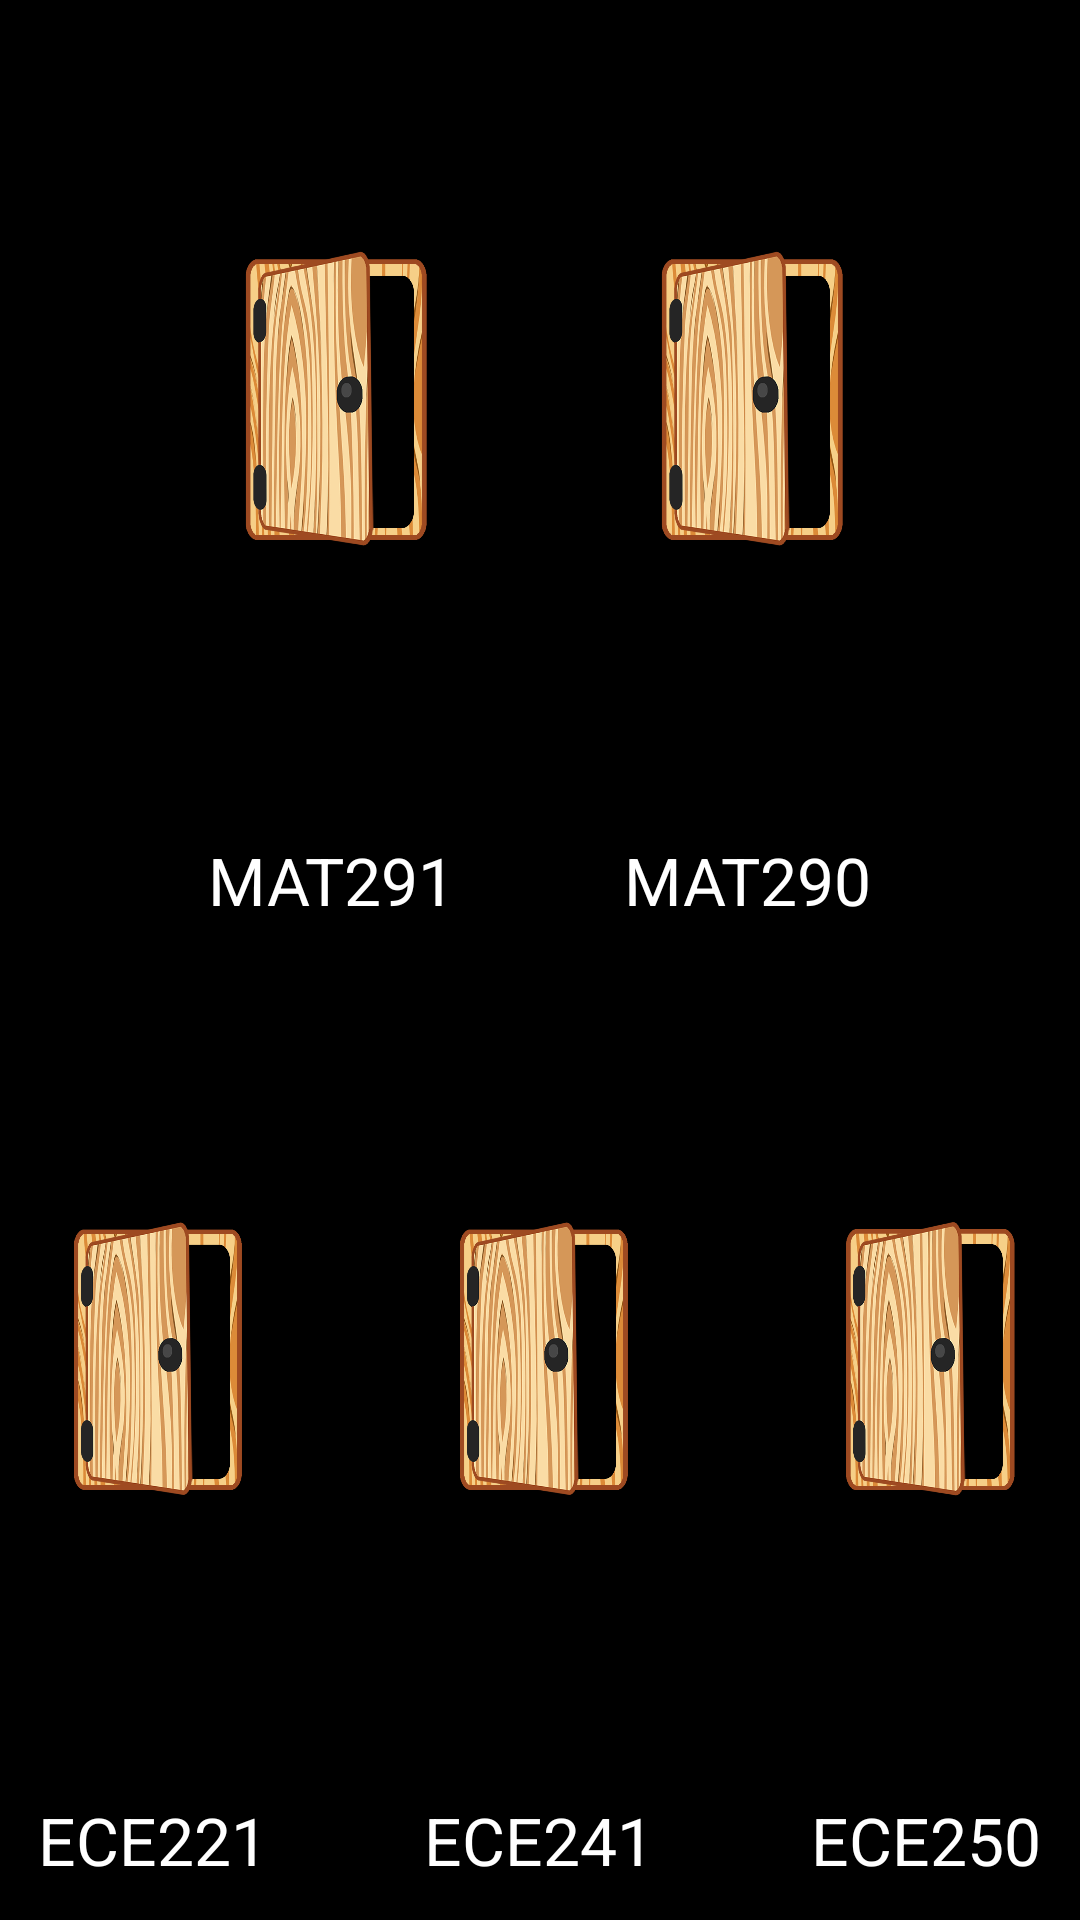

Icons on this 1080*1920 Android screen, each with the point to tap as [x,y]:
door: [336,399], [752,399], [158,1358], [544,1358], [930,1359]
